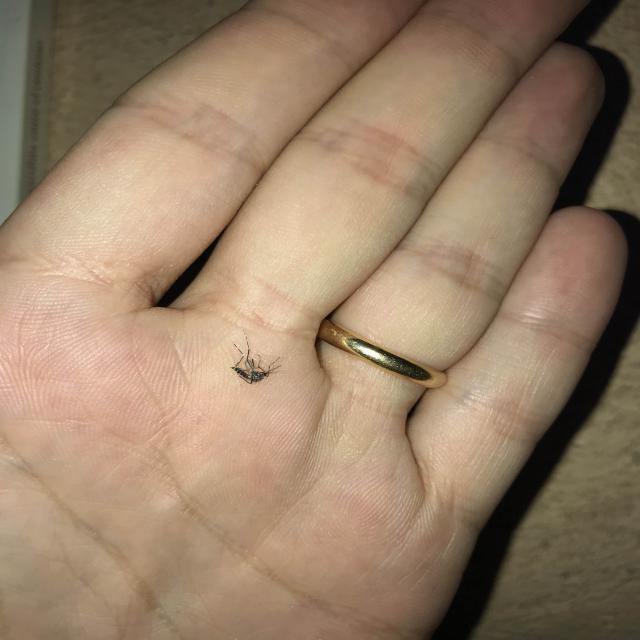albopictus: (223, 332, 290, 388)
